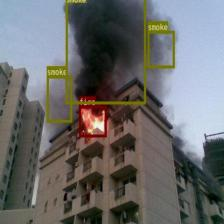fire: (79, 105, 106, 137)
smoke: (65, 0, 145, 103), (46, 75, 72, 122), (147, 31, 174, 68)
